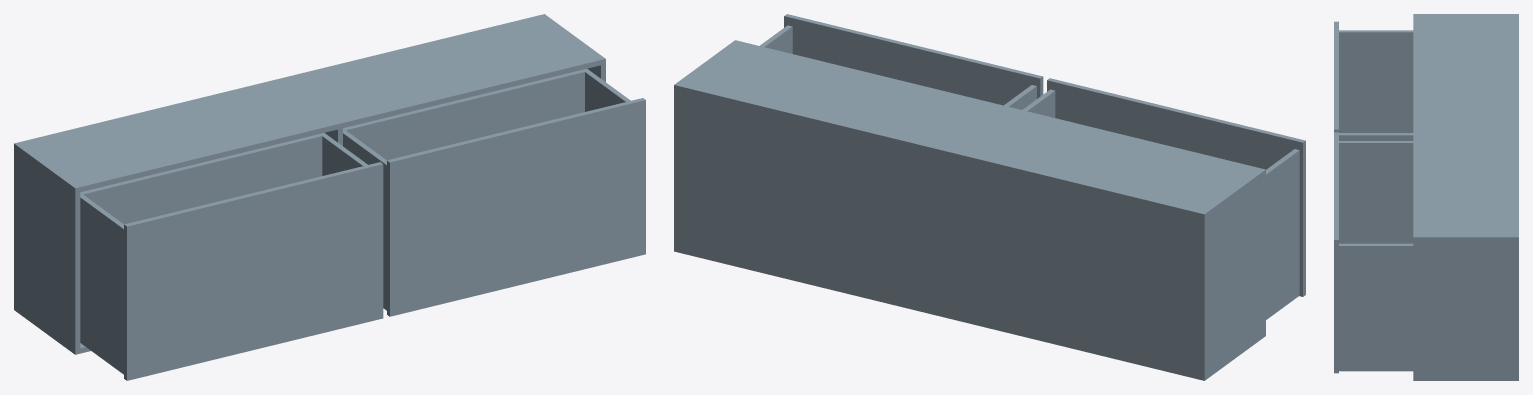
File: meuble_690f66b764a09.glb
The picture shows the model from 3 angles, left to right: view 1: azimuth 30°, elevation 25°; view 2: azimuth 150°, elevation 25°; view 3: azimuth 270°, elevation 25°; orthographic projection. The views are drawn at different scales.
Visible parts, largest first — view 1: world; view 2: world; view 3: world.
Part boxes in pixels (x1,y1,x2,y2): world: [14, 14, 645, 380]; world: [674, 14, 1305, 380]; world: [1334, 14, 1518, 380].
Size of the model in its own units: 2 by 0.6 by 0.7.
